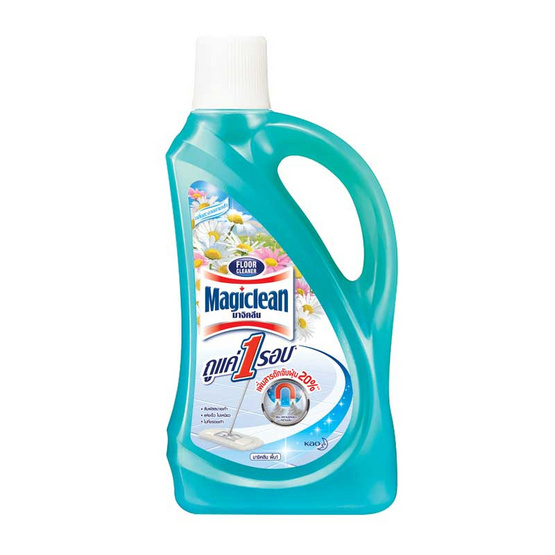Cleaning_solution: (159, 29, 405, 520)
